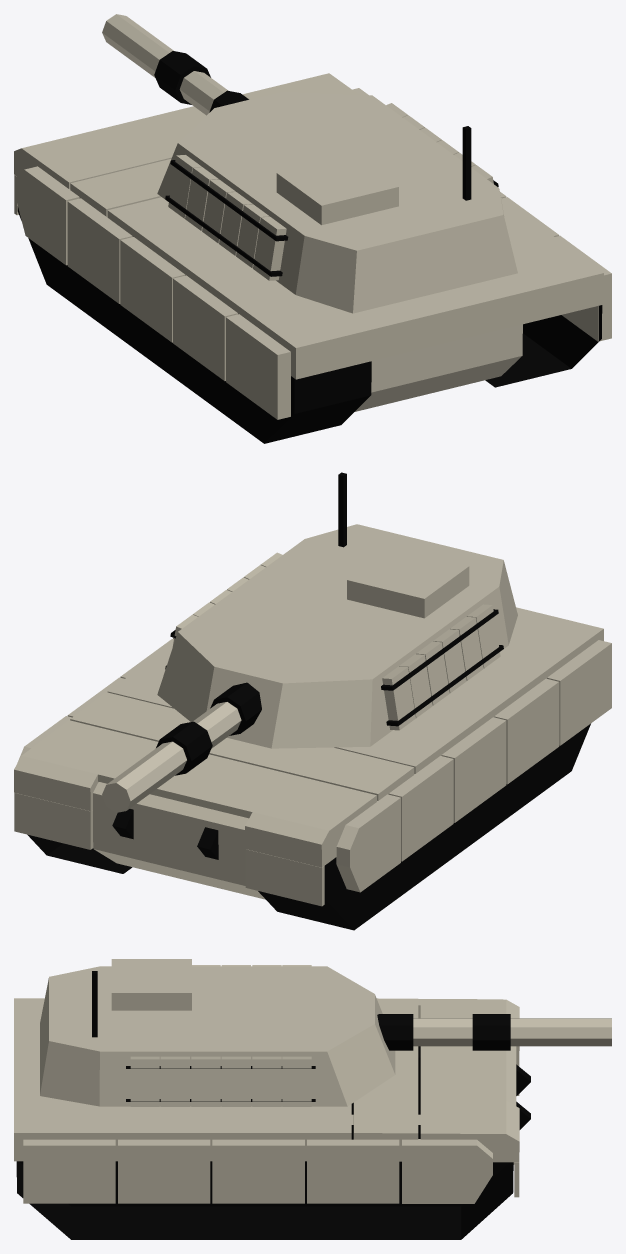
Rendered from tank2.gltf.
The picture shows the model from 3 angles, top to bottom: view 1: azimuth 30°, elevation 25°; view 2: azimuth 150°, elevation 25°; view 3: azimuth 270°, elevation 25°; orthographic projection. The views are drawn at different scales.
Parts seen in each view (by area): view 1: Turret, Body, Cube.005, Cube.003, Cube.004, Cube.035, Cube.010, Cube.007, Cube.009, Cube.008, Cube.021, Cube.001 (+13 smaller); view 2: Turret, Cube.003, Body, Cube.005, Cube.004, Cube.002, Cube.035, Cube.001, Cylinder, Cube.009, Cube.008, Cube.010 (+15 smaller); view 3: Turret, Cube.021, Body, Cube.003, Cube.024, Cube.026, Cube.023, Cube.025, Cube.020, Cube.002, Cylinder, Cube.035 (+10 smaller).
Boxes of the visible parts, bbox=[...] form: Turret: bbox=[157, 91, 517, 313]; Body: bbox=[107, 197, 603, 379]; Cube.005: bbox=[17, 206, 371, 443]; Cube.003: bbox=[14, 73, 358, 189]; Cube.004: bbox=[355, 324, 522, 411]; Cube.035: bbox=[276, 154, 398, 225]; Cube.010: bbox=[226, 314, 290, 419]; Cube.007: bbox=[67, 198, 132, 303]; Cube.009: bbox=[173, 275, 237, 380]; Cube.008: bbox=[120, 237, 185, 342]; Cube.021: bbox=[485, 305, 602, 387]; Cube.001: bbox=[15, 166, 79, 265]; Turret: bbox=[157, 524, 517, 748]; Cube.003: bbox=[14, 720, 376, 867]; Body: bbox=[107, 607, 603, 773]; Cube.005: bbox=[258, 723, 590, 930]; Cube.004: bbox=[93, 782, 265, 899]; Cube.002: bbox=[70, 692, 414, 800]; Cube.035: bbox=[347, 547, 469, 618]; Cube.001: bbox=[336, 794, 400, 892]; Cylinder: bbox=[102, 702, 241, 812]; Cube.009: bbox=[494, 678, 559, 784]; Cube.008: bbox=[441, 717, 506, 822]; Cube.010: bbox=[547, 640, 611, 745]; Turret: bbox=[40, 966, 395, 1106]; Cube.021: bbox=[16, 1125, 513, 1239]; Body: bbox=[14, 998, 351, 1161]; Cube.003: bbox=[420, 999, 519, 1162]; Cube.024: bbox=[212, 1139, 304, 1203]; Cube.026: bbox=[23, 1139, 115, 1203]; Cube.023: bbox=[307, 1139, 399, 1203]; Cube.025: bbox=[118, 1139, 210, 1203]; Cube.020: bbox=[402, 1139, 492, 1203]; Cube.002: bbox=[353, 998, 418, 1161]; Cylinder: bbox=[413, 1018, 611, 1046]; Cube.035: bbox=[111, 959, 191, 1010].
Bounding box in the file's own units: 13.03 × 9.43 × 22.47.
